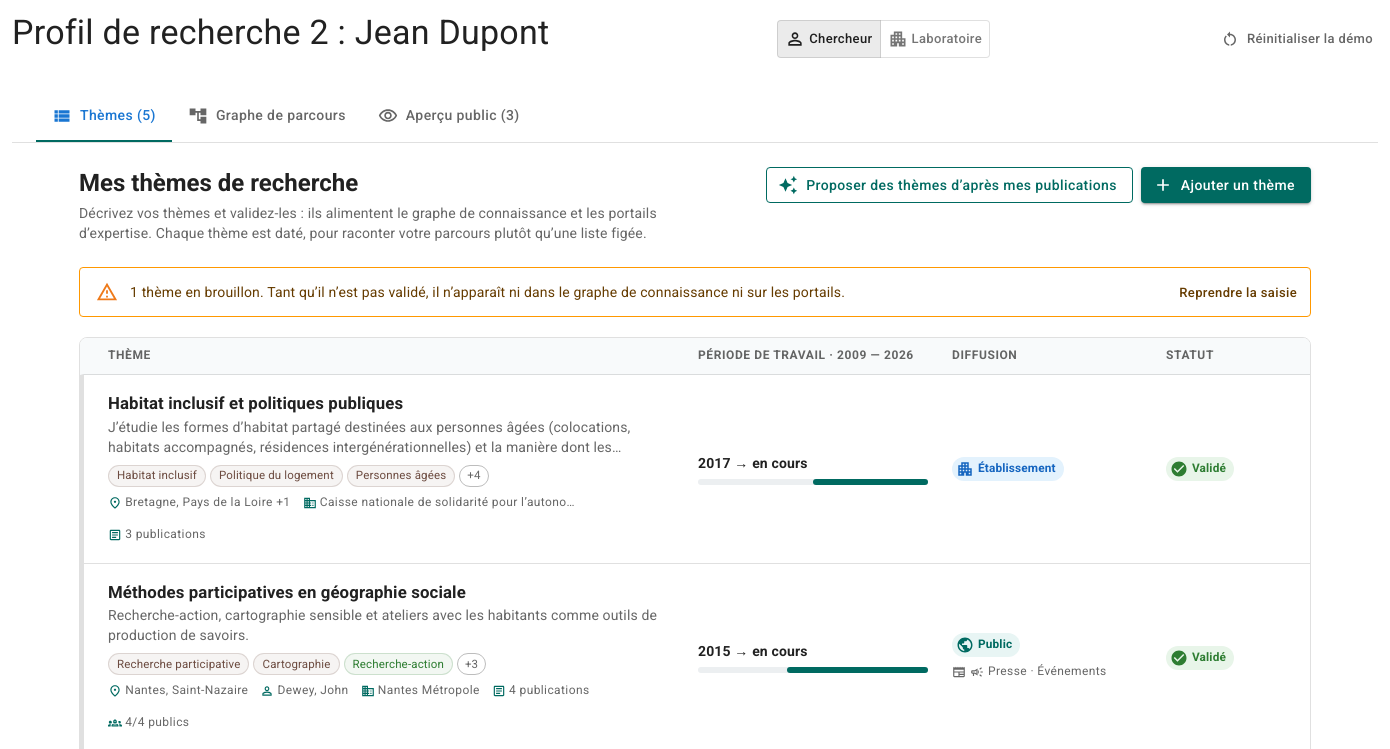
Test case: ExpertiseV2Page › décline l’aperçu public selon le public choisi
Click the tab "Aperçu public (3)". click: click(449, 116)
box: [362,90,536,142]
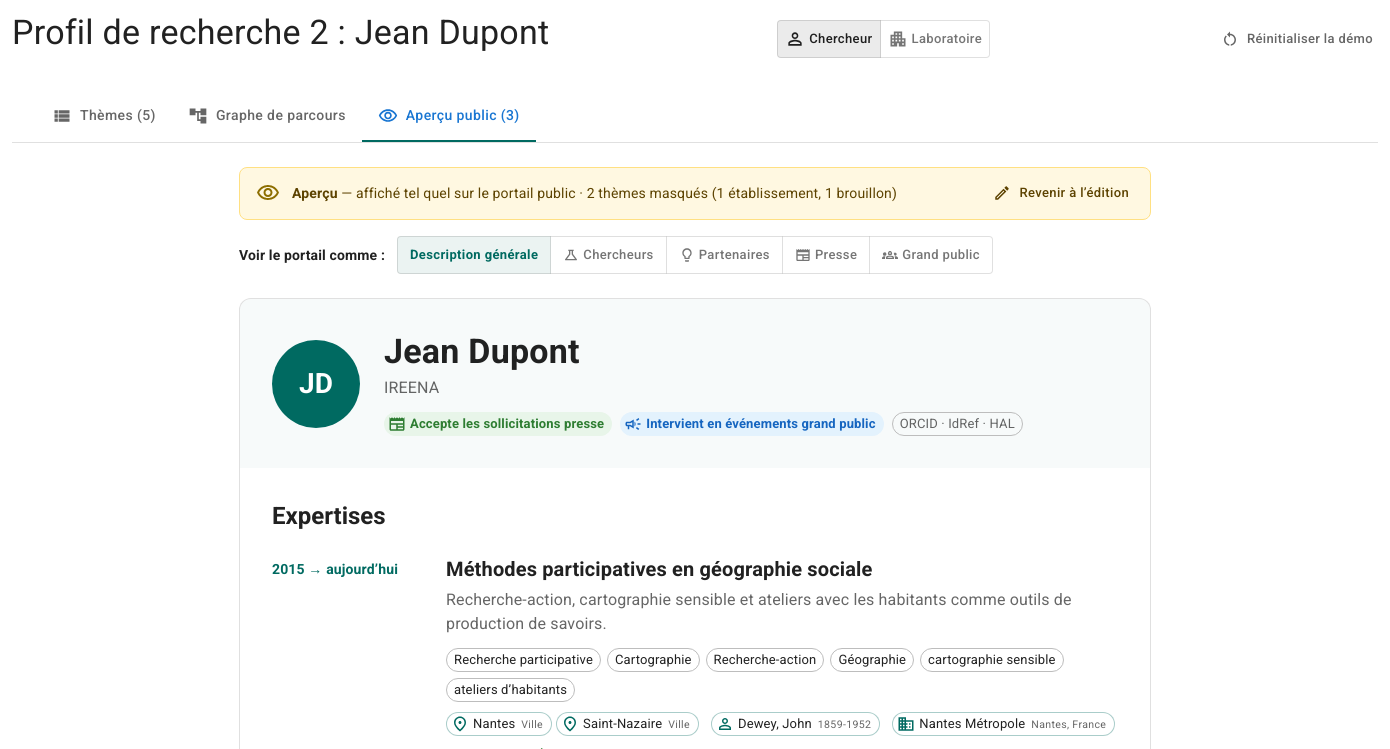
Expected: the heading "Méthodes participatives en géographie sociale" is shown, [446,557,872,581]
Expected: the button "Habitat inclusif et politiques publiques" is gone
Expected: the text "2 thèmes masqués" is shown, [576,185,897,201]
# Vue journalistes : la version adaptée remplace la description générale
Click the button "Presse". click: click(826, 255)
box: [782,236,870,274]
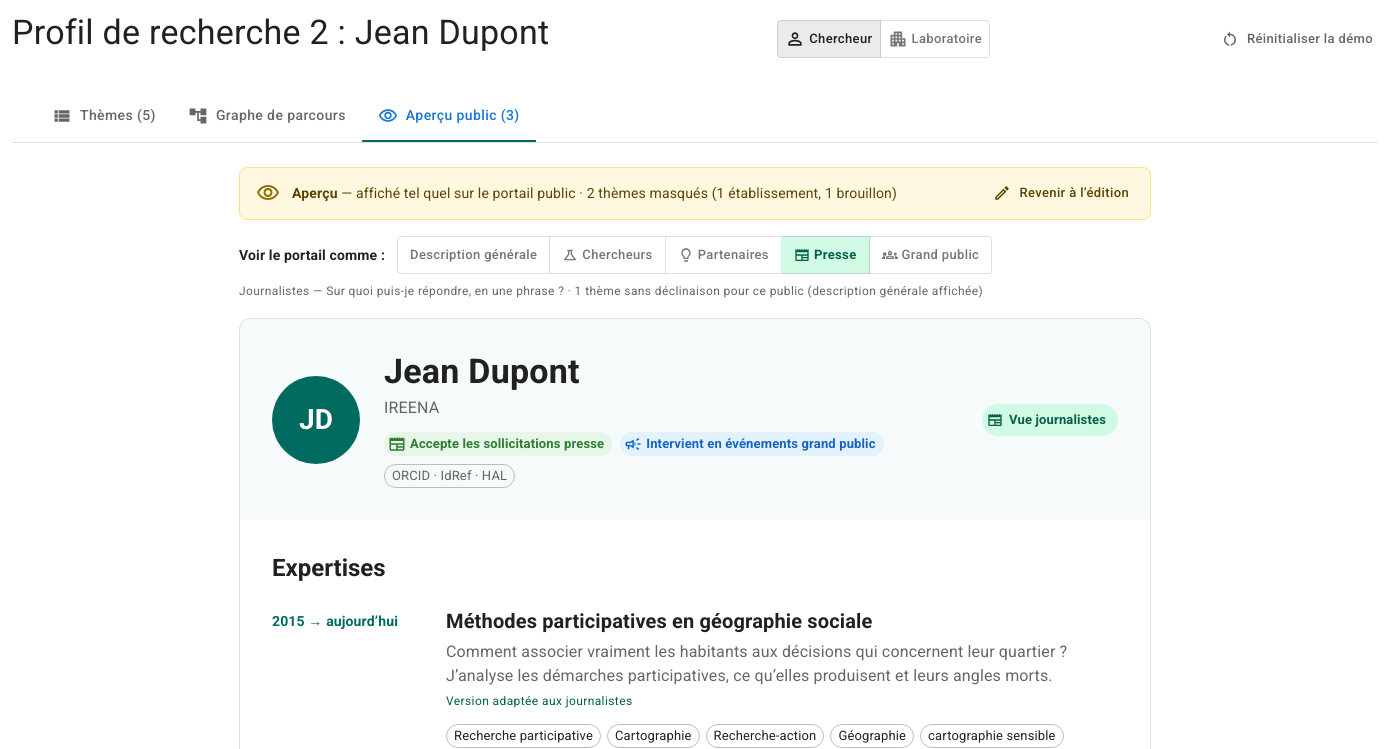
Expected: the text "Comment associer vraiment les habitants aux décisions" is shown, [446,642,1067,685]
Expected: the text "Version adaptée aux journalistes" is shown 2 times
Expected: the text "1 thème sans déclinaison pour ce public" is shown, [564,284,983,298]
